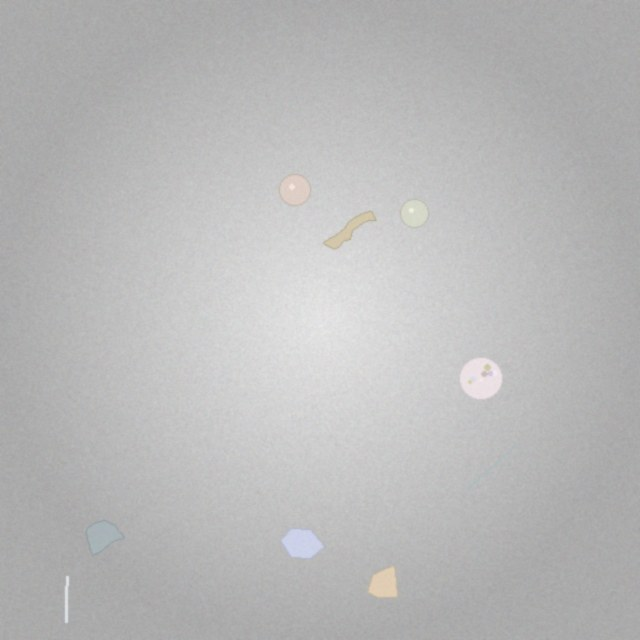fiber: (465, 442, 519, 492), (63, 573, 71, 627)
film: (323, 212, 377, 250)
foam: (460, 357, 503, 400)
fragment: (281, 528, 324, 558), (87, 521, 124, 555), (367, 566, 398, 598)
pellet: (279, 175, 310, 205), (400, 199, 428, 228)
